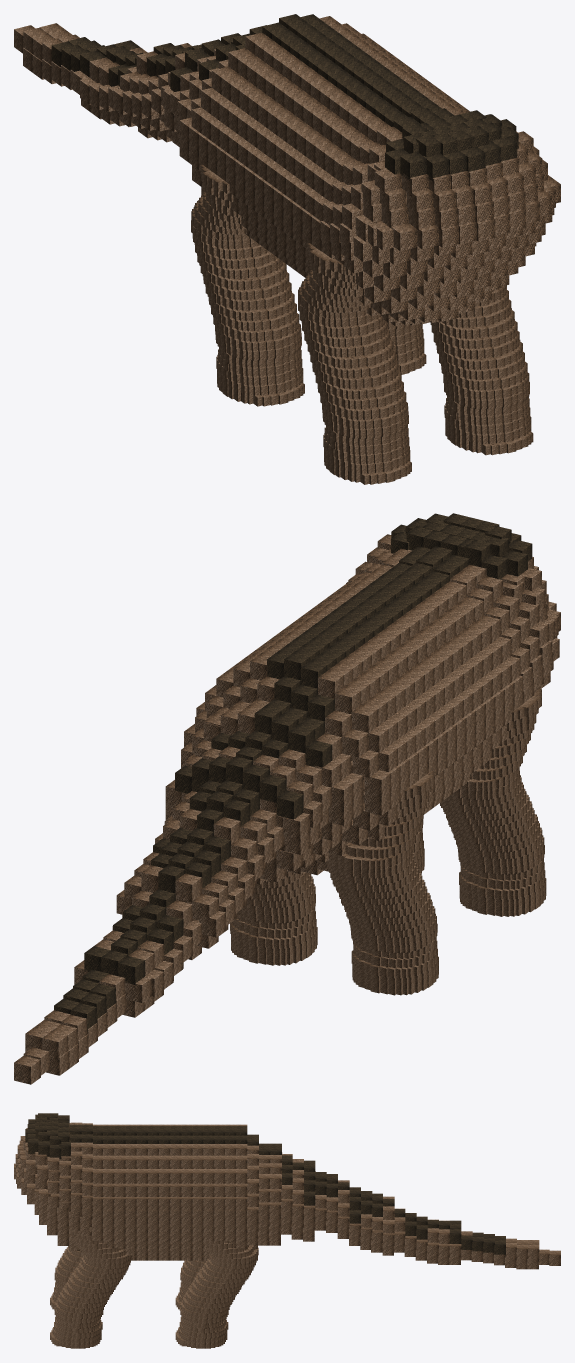
File: cuelloCuerpo_VM.obj
3 views of the same model, one above another, from view 1: azimuth 30°, elevation 25°; view 2: azimuth 150°, elevation 25°; view 3: azimuth 270°, elevation 25° (orthographic). The views are drawn at different scales.
Visible parts, largest first — view 1: Box2521; view 2: Box2521; view 3: Box2521.
Boxes of the visible parts, x1,y1,x2,y2 form: Box2521: (14,14,560,484); Box2521: (14,513,560,1084); Box2521: (14,1113,560,1348).
Size of the model in its own units: 1.41 by 2.21 by 5.55.
